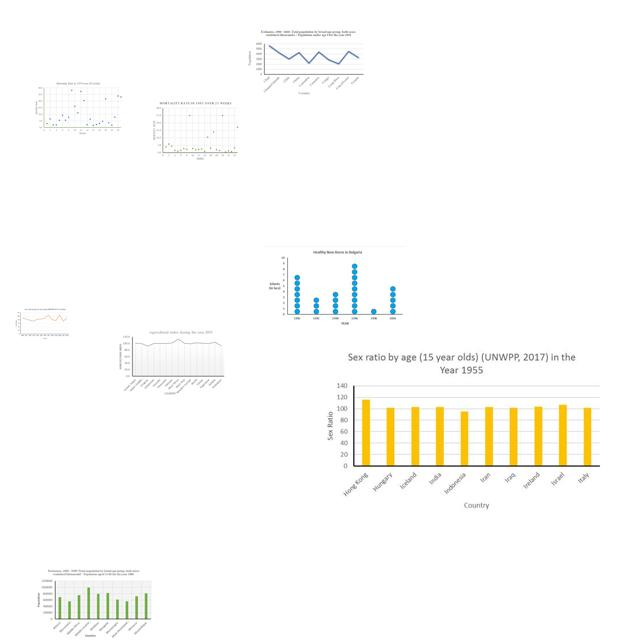Graph: (318, 349, 604, 512), (264, 246, 406, 329), (33, 568, 153, 639), (244, 29, 367, 97), (116, 329, 226, 395), (152, 101, 240, 161), (35, 81, 123, 135), (15, 308, 70, 340)
